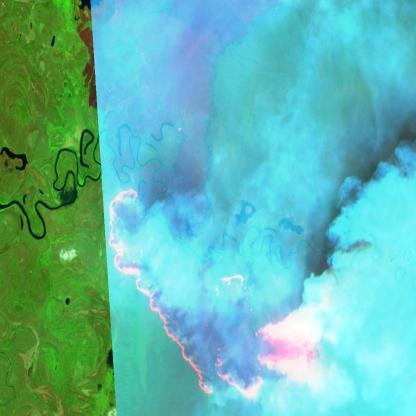fire: (104, 170, 329, 400)
